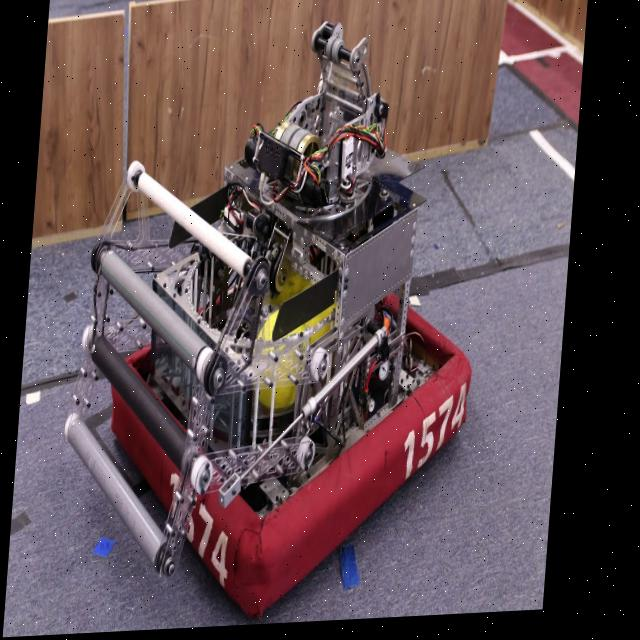robot: (58, 13, 499, 623)
